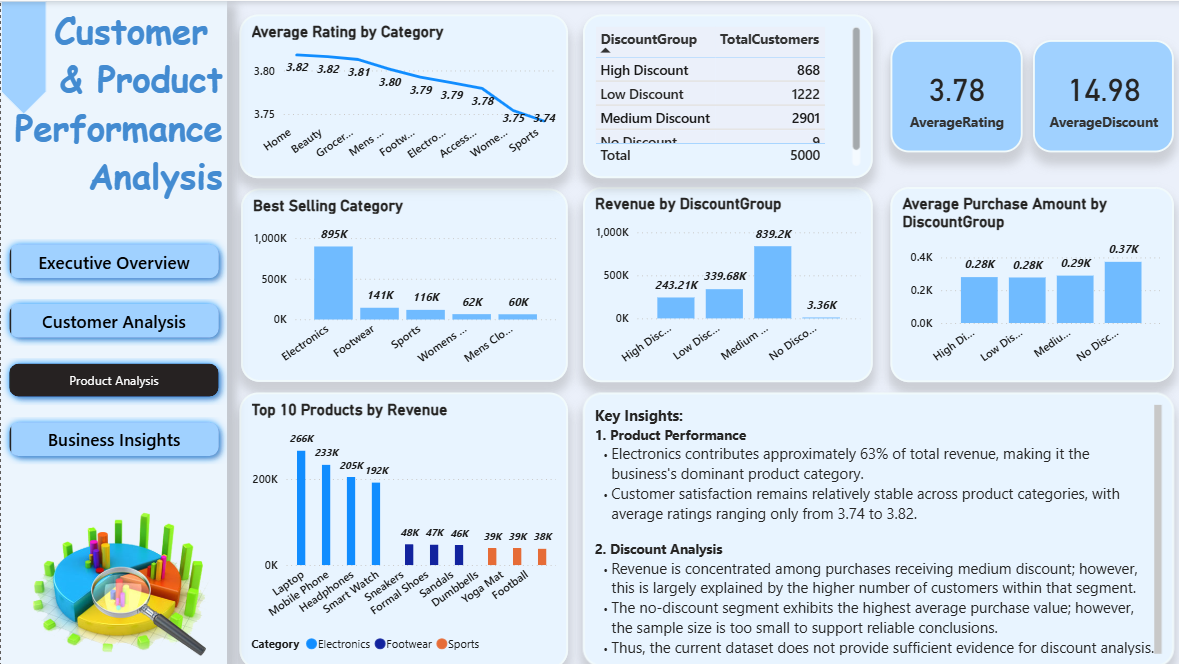

Layout of this report page (visuals, bound fields, positions):
{"tool":"powerbi","page":{"name":"Product Analysis","canvas":[1280,720],"ordinal":2},"visuals":[{"type":"textbox","box":[0,0,243.8,720],"z":0,"group":"g1"},{"type":"clusteredColumnChart","title":"Average Purchase Amount by DiscountGroup","fields":{"Category":["FACT_Purchases.DiscountGroup"],"Y":["Avg(FACT_Purchases.Amount)"]},"box":[960.2,200.8,306,210.5],"z":0},{"type":"shape","box":[0,0,49.1,122.8],"z":1000,"group":"g1"},{"type":"columnChart","title":"Best Selling Category","fields":{"Category":["DIM_Product.Category"],"Y":["Sum(FACT_Purchases.Amount)"]},"box":[259.1,202.4,353,208.9],"z":1000},{"type":"clusteredColumnChart","title":"Top 10 Products by Revenue","fields":{"Y":["Sum(FACT_Purchases.Amount)"],"Category":["DIM_Product.Items"],"Series":["DIM_Product.Category"]},"box":[257.5,422.6,354.6,297.9],"z":2000},{"type":"lineChart","title":"Average Rating by Category","fields":{"Category":["DIM_Product.Category"],"Y":["Avg(FACT_Purchases.ItemRating)"]},"box":[257.5,14.6,354.6,176.5],"z":3000},{"type":"card","fields":{"Values":["FACT_Purchases.AverageRating"]},"box":[960.2,42.1,142.5,121.4],"z":4000},{"type":"card","fields":{"Values":["FACT_Purchases.AverageDiscount"]},"box":[1114,42.1,152.2,121.4],"z":5000},{"type":"clusteredColumnChart","title":"Revenue by DiscountGroup","fields":{"Category":["FACT_Purchases.DiscountGroup"],"Y":["Sum(FACT_Purchases.Amount)"]},"box":[628.3,200.8,312.5,210.5],"z":6000},{"type":"tableEx","fields":{"Values":["FACT_Purchases.DiscountGroup","FACT_Purchases.TotalCustomers"]},"box":[628.3,14.6,312.5,176.5],"z":7000},{"type":"textbox","box":[628.3,422.6,638,296.3],"z":8000},{"type":"group","id":"g1","title":"Group 1","box":[0,0,243.8,720],"z":9000},{"type":"image","box":[0,540.8,242.9,179.7],"z":10000},{"type":"textbox","box":[0,0,244.5,229.9],"z":11000},{"type":"pageNavigator","box":[0,254.2,244.5,249.4],"z":12000}]}

Visuals, with their boxes in screenshot pixels (x1, y1, x2, y2), scaled from the page's 1280x720 canvas onto the 1179x664 screenshot:
textbox: [left=0, top=0, right=225, bottom=663]
"Average Purchase Amount by DiscountGroup" clusteredColumnChart: [left=884, top=185, right=1166, bottom=379]
shape: [left=0, top=0, right=45, bottom=113]
"Best Selling Category" columnChart: [left=239, top=187, right=564, bottom=379]
"Top 10 Products by Revenue" clusteredColumnChart: [left=237, top=390, right=564, bottom=663]
"Average Rating by Category" lineChart: [left=237, top=13, right=564, bottom=176]
card - FACT_Purchases.AverageRating: [left=884, top=39, right=1016, bottom=151]
card - FACT_Purchases.AverageDiscount: [left=1026, top=39, right=1166, bottom=151]
"Revenue by DiscountGroup" clusteredColumnChart: [left=579, top=185, right=867, bottom=379]
tableEx - FACT_Purchases.DiscountGroup x FACT_Purchases.TotalCustomers: [left=579, top=13, right=867, bottom=176]
textbox: [left=579, top=390, right=1166, bottom=663]
"Group 1" group: [left=0, top=0, right=225, bottom=663]
image: [left=0, top=499, right=224, bottom=663]
textbox: [left=0, top=0, right=225, bottom=212]
pageNavigator: [left=0, top=234, right=225, bottom=464]
